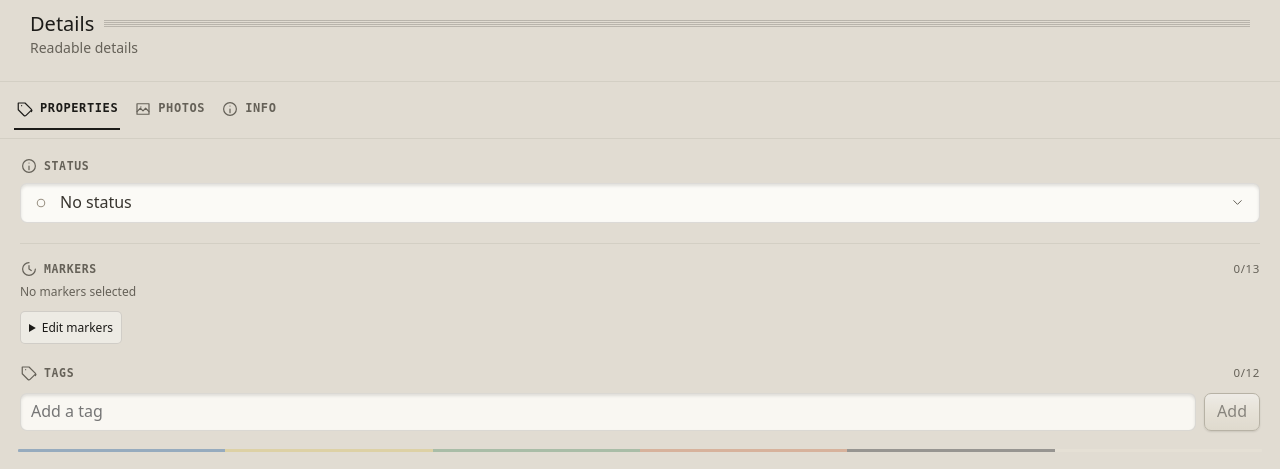
it: P2 visual system, accessibility and brand › keeps Inspector Info human-readable and hides diagnostic or duplicate state
The width and height of the screenshot is (1280, 469).
Click the tab "Info" at (249,110), box [219,90,278,130]
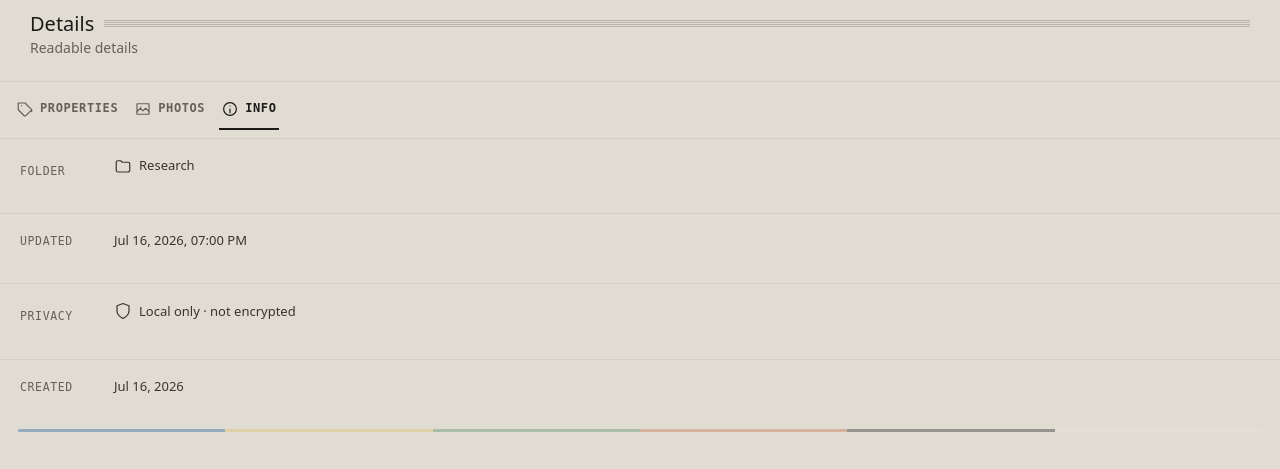
Now the text "Research" is shown, box [114,156,195,174]
Now the text "Local only · not encrypted" is shown, box [114,302,296,320]
